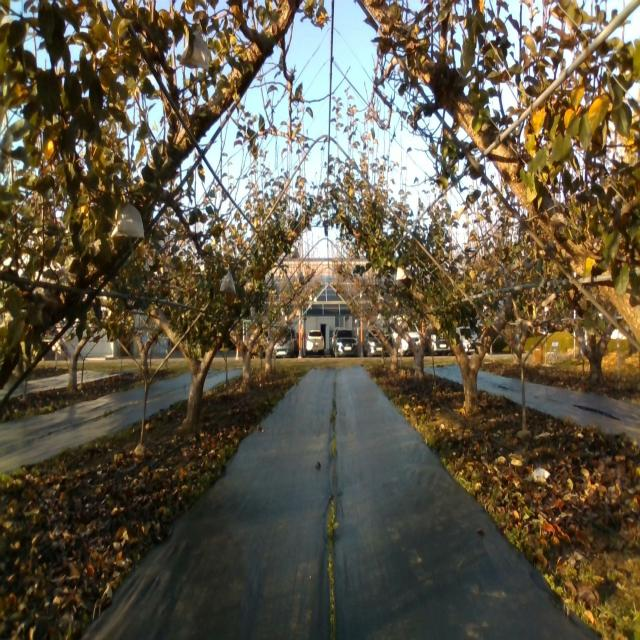pearbags: (180, 30, 212, 70), (111, 204, 145, 238), (220, 270, 236, 294)
